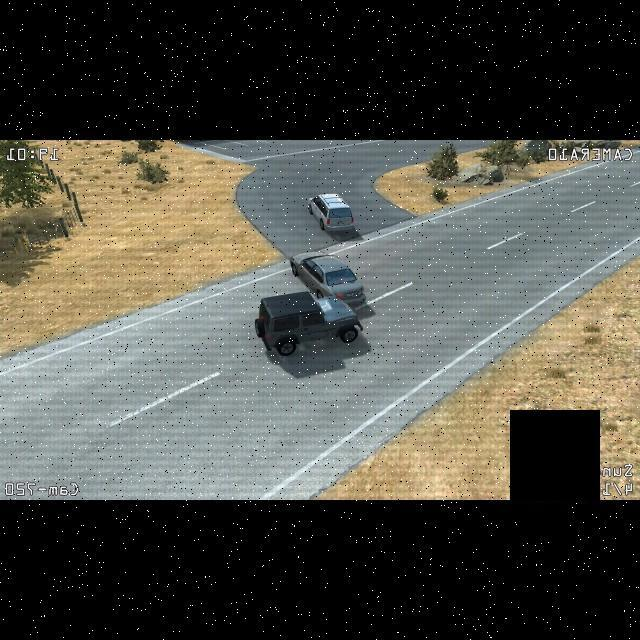moderate: (252, 250, 372, 356)
